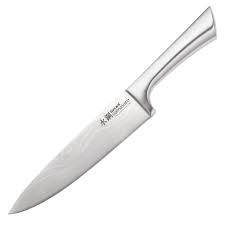knife: (7, 3, 219, 218)
